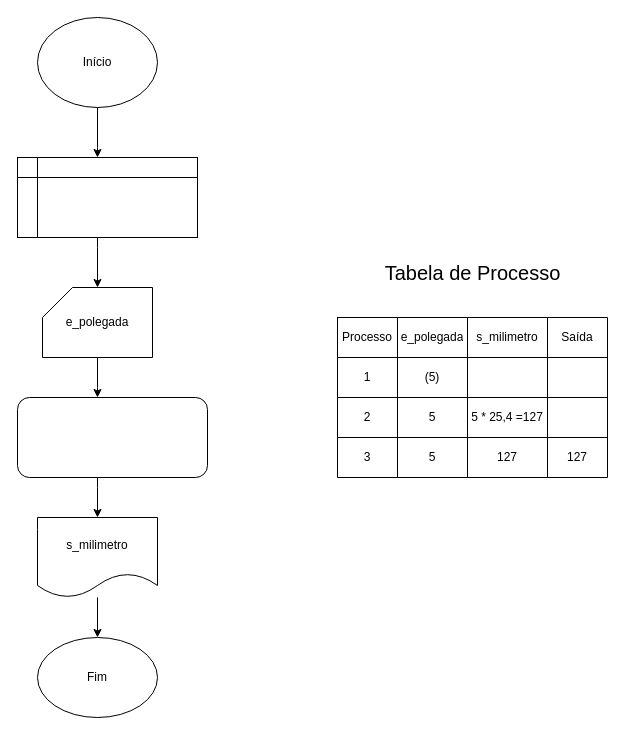
The diagram is 625 pixels wide and 735 high, and some of its shapes have lost their labels. Here are the shapes that lost their labels. From the top down, the centre of each, then its label:
At (x=107, y=197): "e_polegada, s_milimetro".
At (x=112, y=437): "s_milimetro = e_polegada * 25,4".
